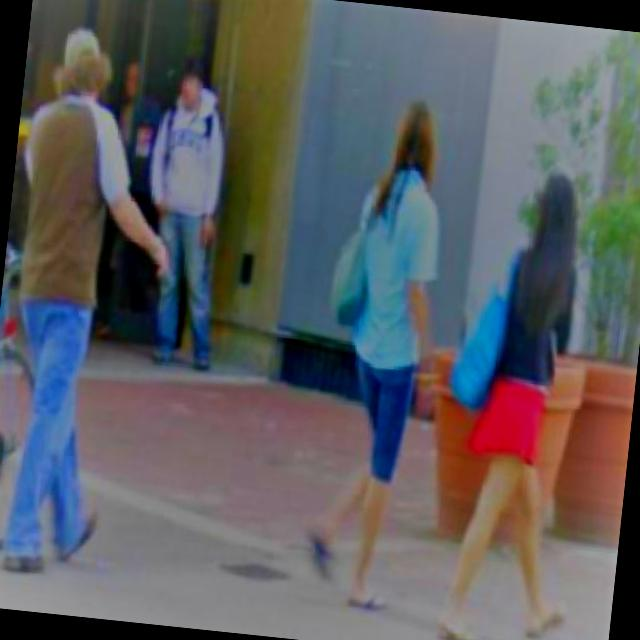Person: (0, 19, 185, 591), (300, 79, 480, 622), (425, 151, 622, 640), (136, 55, 251, 371)
